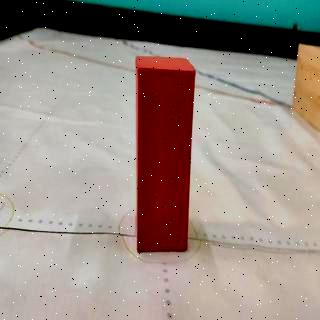redbox: (133, 54, 197, 252)
